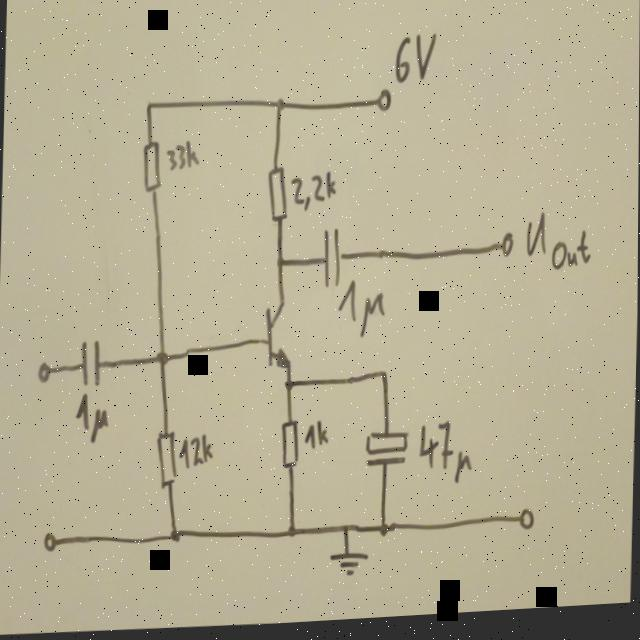capacitor: (361, 427, 408, 474), (316, 224, 346, 293), (74, 332, 105, 391)
ground: (326, 549, 369, 584)
junction: (152, 347, 170, 370), (165, 524, 182, 547), (281, 523, 298, 544), (376, 522, 390, 542), (271, 96, 285, 116), (280, 377, 294, 395), (271, 256, 285, 272), (339, 521, 350, 538), (377, 369, 389, 384), (142, 99, 153, 113)
resistor: (151, 426, 177, 490), (264, 164, 289, 227), (139, 138, 162, 195), (277, 418, 300, 475)
terminal: (370, 88, 395, 119), (515, 507, 536, 540), (495, 233, 517, 264), (39, 527, 60, 558), (33, 356, 51, 385)
text: (520, 211, 594, 280), (412, 418, 475, 493), (335, 278, 387, 341), (388, 30, 439, 91), (70, 387, 111, 446), (288, 169, 338, 216), (176, 431, 215, 474), (162, 136, 201, 175), (301, 420, 328, 453)
transistor: (257, 299, 299, 375)
